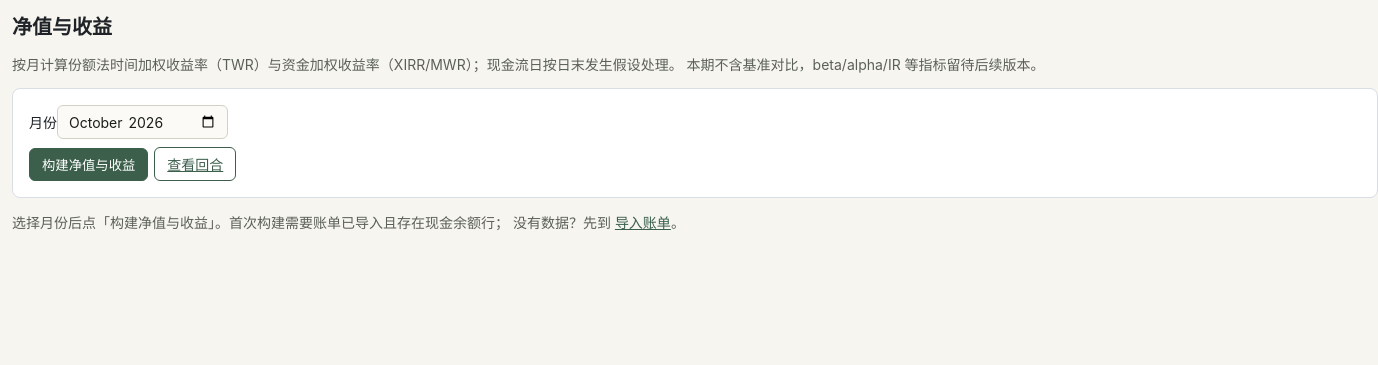
Test: Nav 净值与收益页 › 后端 422（月份非法）走 RFC 7807 错误渲染
What coordinates should you click on to do the following:
click the button "构建净值与收益"
I would click on:
 (89, 164)
Its box is [29,148,148,181].
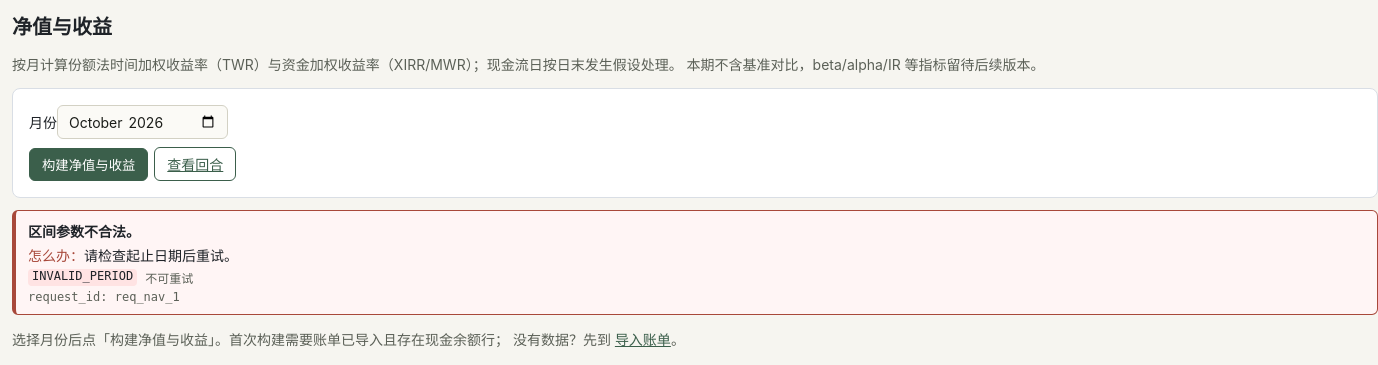
Result: the text "区间参数不合法。" is shown at [28,223,140,240]
Result: the text "INVALID_PERIOD" is shown at [28,269,137,286]
